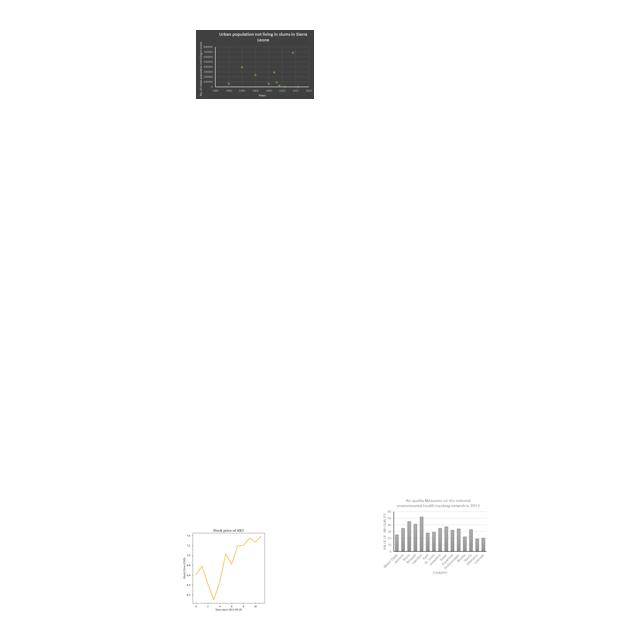Graph: (161, 522, 293, 613), (380, 497, 489, 576), (196, 30, 314, 99)
